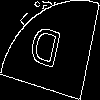D: (25, 24, 64, 78)
